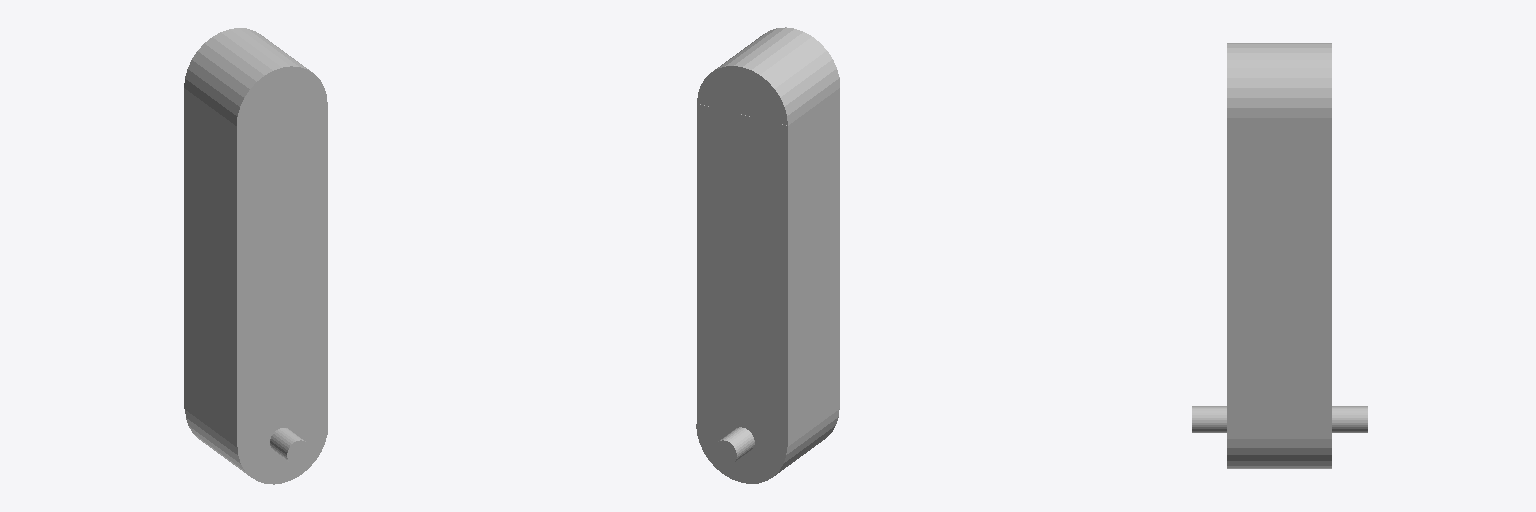
Rendered from Upperarm.obj.
3 views of the same model, side by side, from view 1: azimuth 30°, elevation 25°; view 2: azimuth 150°, elevation 25°; view 3: azimuth 270°, elevation 25° (orthographic).
Parts seen in each view (by area): view 1: Upperarm; view 2: Upperarm; view 3: Upperarm.
Part boxes in pixels (x1,y1,x2,y2): Upperarm: (184, 28, 327, 484); Upperarm: (696, 27, 839, 483); Upperarm: (1192, 43, 1367, 468).
Bounding box in the file's own units: 2.02 × 8.73 × 3.34.